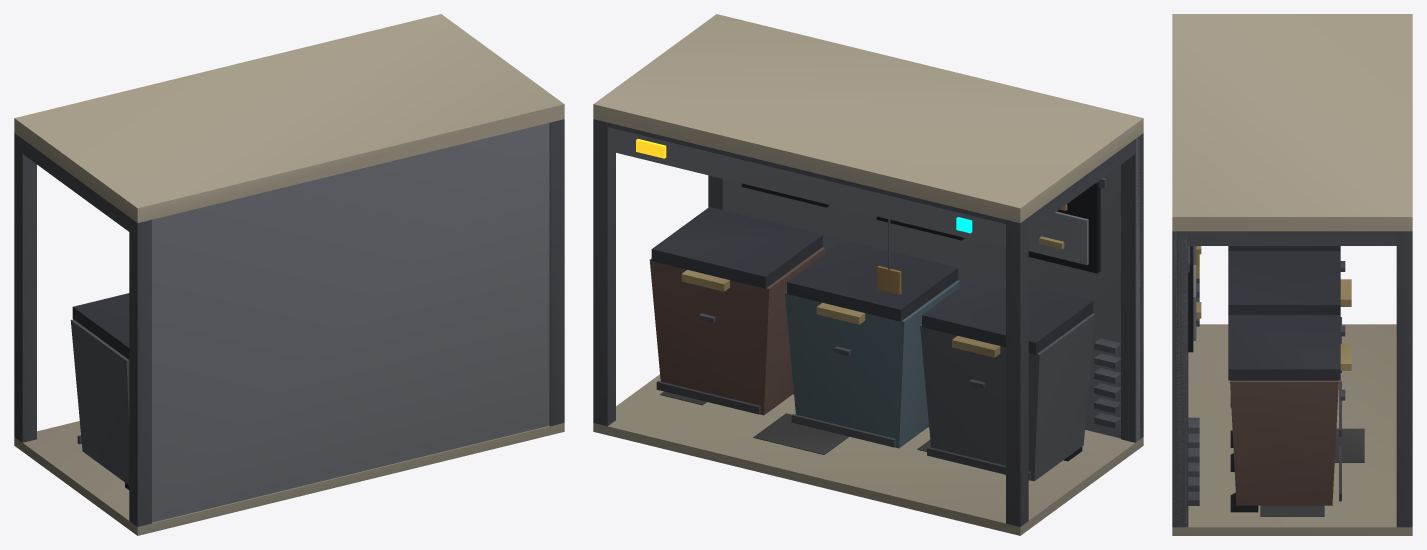
Rendered from refuse_station.glb.
3 views of the same model, side by side, from view 1: azimuth 30°, elevation 25°; view 2: azimuth 150°, elevation 25°; view 3: azimuth 270°, elevation 25° (orthographic). The views are drawn at different scales.
Visible parts, largest first — view 1: refuse_station; view 2: refuse_station; view 3: refuse_station.
Part boxes in pixels (bbox=[...]): refuse_station: bbox=[14, 14, 564, 535]; refuse_station: bbox=[593, 14, 1143, 535]; refuse_station: bbox=[1172, 14, 1412, 535].
Size of the model in its own units: 3 by 2.2 by 1.5.
